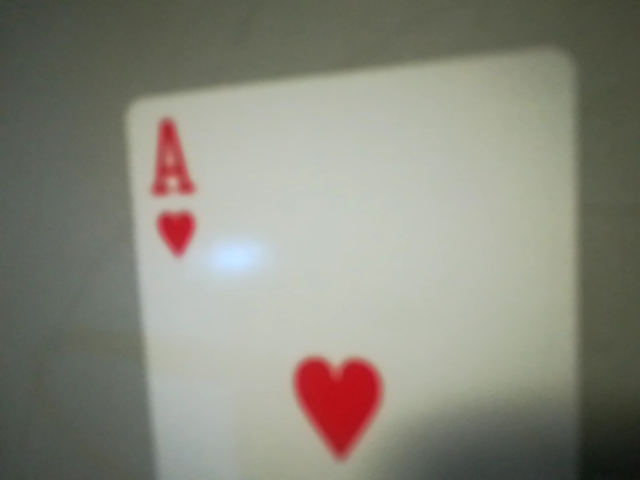hx a: (124, 104, 222, 278)
